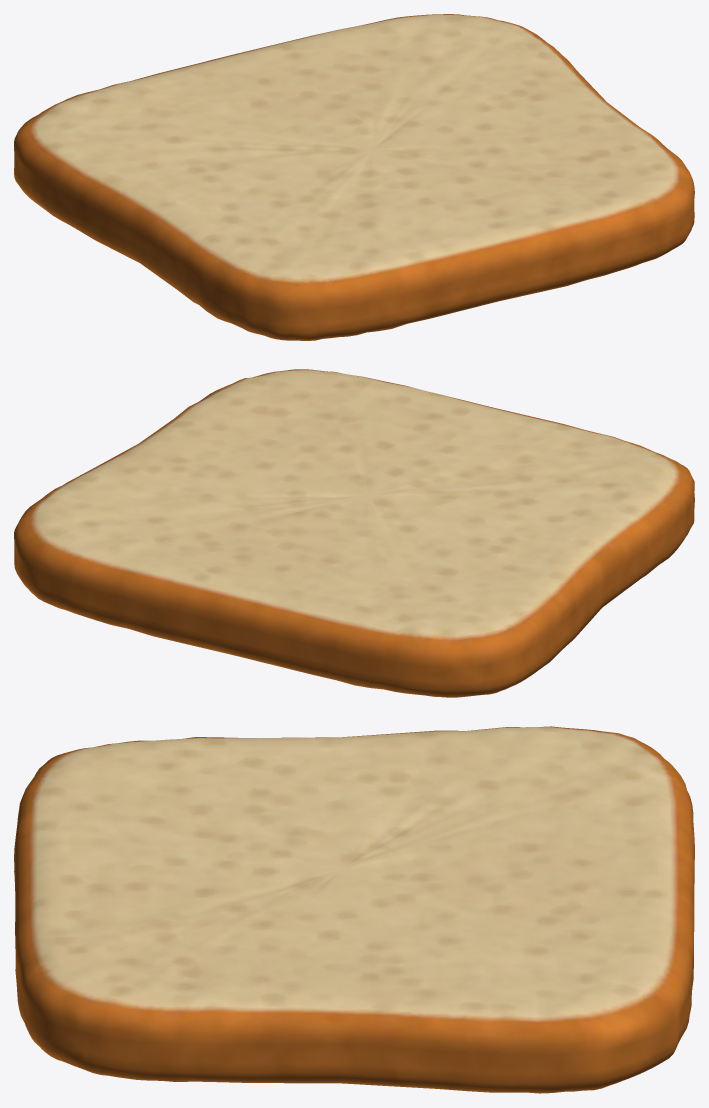
The model's file is bread_white_top.glb.
3 renders of one model, top to bottom at view 1: azimuth 30°, elevation 25°; view 2: azimuth 150°, elevation 25°; view 3: azimuth 270°, elevation 25°, orthographic. The views are drawn at different scales.
Parts seen in each view (by area): view 1: EX_Bread_white_top; view 2: EX_Bread_white_top; view 3: EX_Bread_white_top.
Boxes of the visible parts, box(x1,y1,x2,y2) form: EX_Bread_white_top: box(14, 14, 694, 340); EX_Bread_white_top: box(14, 369, 694, 697); EX_Bread_white_top: box(14, 726, 694, 1093).
Size of the model in its own units: 0.1074 by 0.0136 by 0.1.
1 material, 1 textured.
